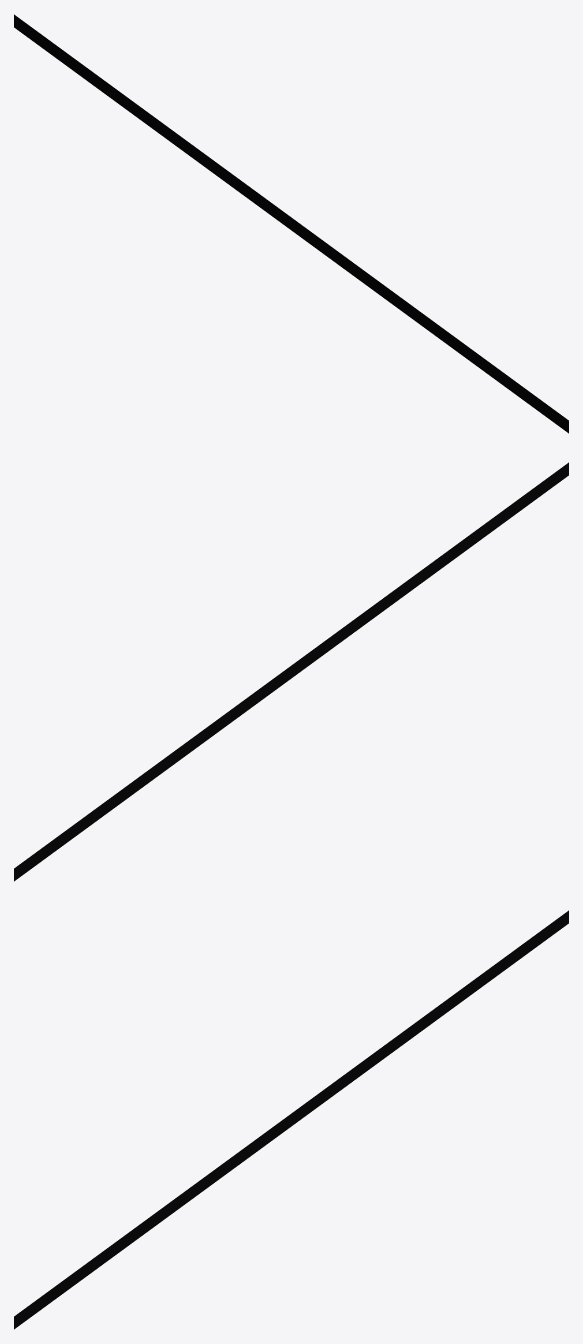
File: LAKETOWN_WAREHOUSE2_PS_WH2_GRIME_EDGE_49565.fbx
3 views of the same model, one above another, from view 1: azimuth 30°, elevation 25°; view 2: azimuth 150°, elevation 25°; view 3: azimuth 330°, elevation 25° (orthographic).
Parts seen in each view (by area): view 1: LAKETOWN_WAREHOUSE2_PS_WH2_GRIME_EDGE_49565; view 2: LAKETOWN_WAREHOUSE2_PS_WH2_GRIME_EDGE_49565; view 3: LAKETOWN_WAREHOUSE2_PS_WH2_GRIME_EDGE_49565.
Part boxes in pixels (x1,y1,x2,y2): LAKETOWN_WAREHOUSE2_PS_WH2_GRIME_EDGE_49565: [14, 14, 568, 433]; LAKETOWN_WAREHOUSE2_PS_WH2_GRIME_EDGE_49565: [14, 462, 568, 881]; LAKETOWN_WAREHOUSE2_PS_WH2_GRIME_EDGE_49565: [14, 910, 568, 1329].
Bounding box in the file's own units: 0.0488 × 3078 × 237229.
Materials: 1 (1 with a texture image).
